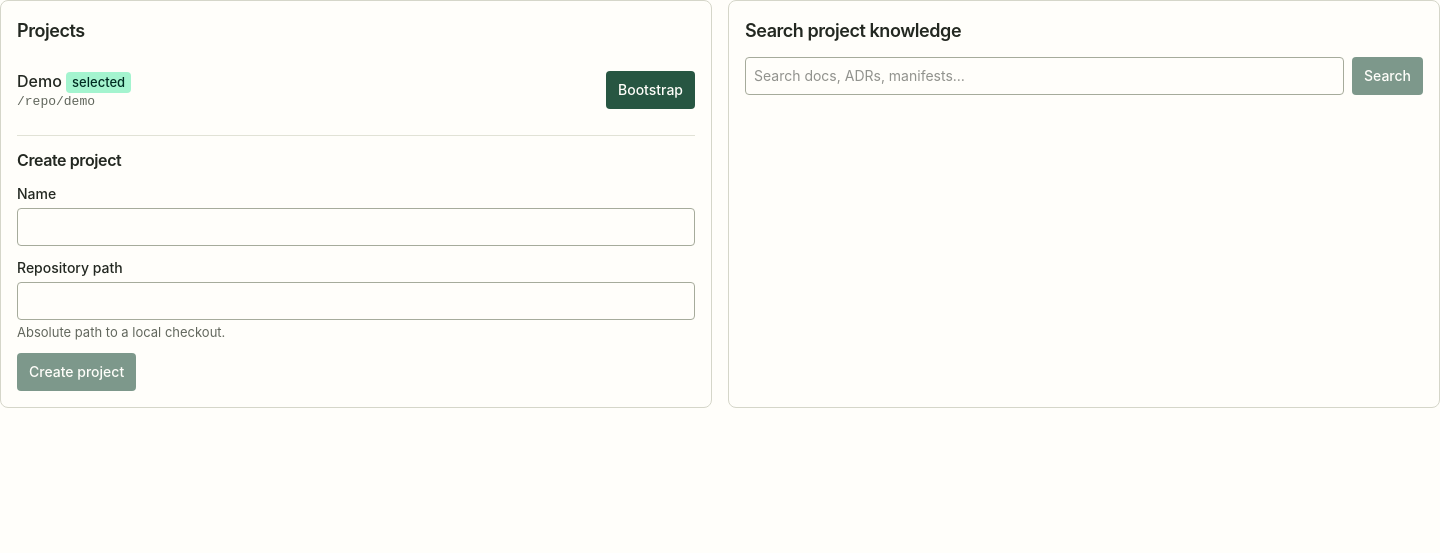
Test: ProjectsScreen › bootstraps and summarises the result
Click the button named "Bootstrap Demo".
click(650, 90)  # box [606,71,695,109]
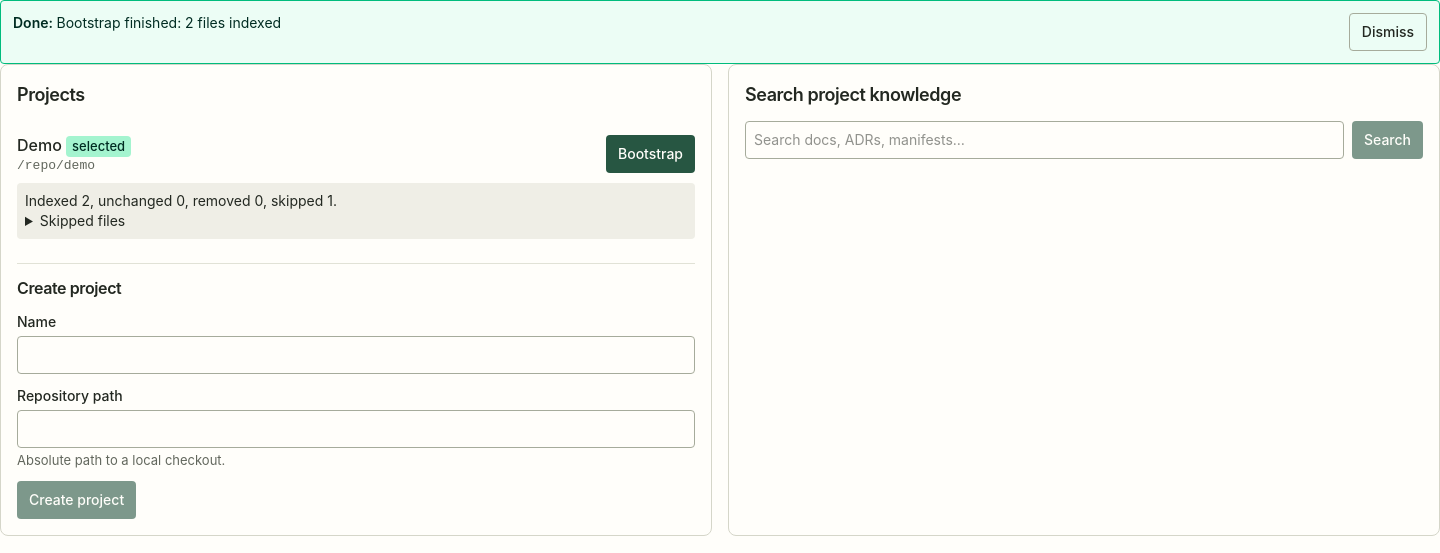
Check: the element named "Bootstrap result" shows "Indexed 2, unchanged 0, removed 0, skipped 1", box [17,183,695,239]
